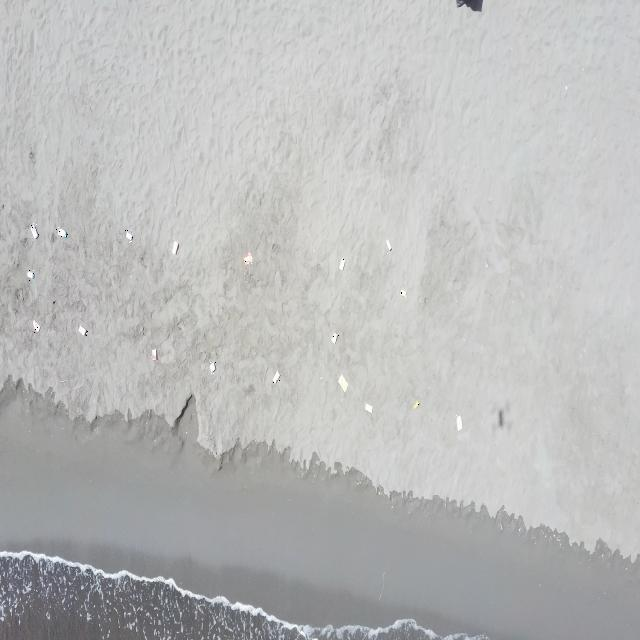Garbage: (456, 0, 482, 11), (337, 374, 347, 392), (497, 408, 503, 427), (77, 324, 87, 335), (55, 227, 67, 236), (243, 252, 252, 263), (124, 228, 131, 241), (31, 223, 37, 238), (272, 371, 279, 383), (32, 320, 39, 332), (208, 360, 215, 372), (172, 240, 178, 253), (455, 415, 460, 430), (364, 403, 372, 412), (331, 332, 337, 343), (151, 347, 156, 360), (27, 270, 33, 280), (339, 258, 344, 270), (413, 400, 420, 408), (387, 239, 391, 251), (400, 288, 406, 296)
